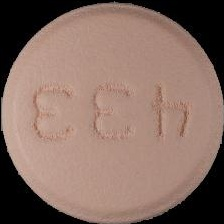53808-0347: (0, 0, 224, 224)
